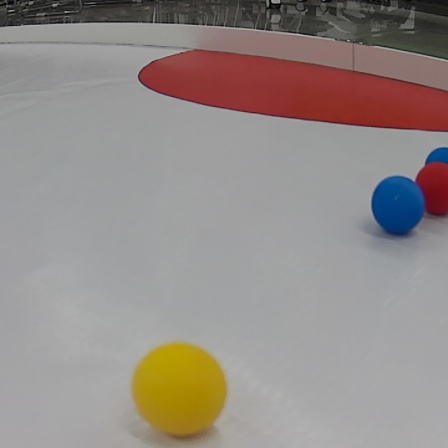blue: (369, 175, 425, 235), (424, 147, 448, 172)
red: (416, 162, 448, 222)
red_base: (135, 35, 448, 134)
yellow: (130, 340, 230, 438)
